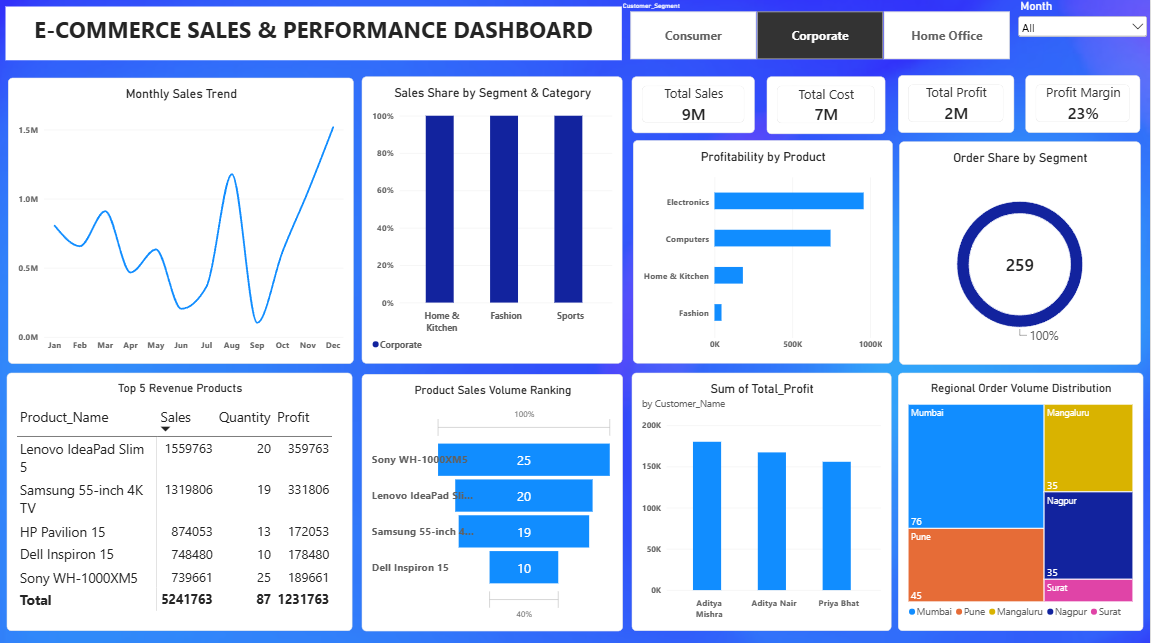

The page's visual inventory and layout, read from the dashboard file:
{"tool":"powerbi","page":{"name":"Page 1","canvas":[1920,1080],"ordinal":0},"visuals":[{"type":"cardVisual","fields":{"Data":["Sum(Orders.Total_Sales)"]},"box":[1056.5,128.3,205,94],"z":0},{"type":"cardVisual","fields":{"Data":["Avg(Orders.Profit_Margin)"]},"box":[1713,126.1,191.3,95.7],"z":1000},{"type":"cardVisual","fields":{"Data":["Sum(Orders.Total_Cost)"]},"box":[1280.4,128.3,197.8,95.7],"z":2000},{"type":"cardVisual","fields":{"Data":["Sum(Orders.Total_Profit)"]},"box":[1500,126.1,193.5,95.7],"z":3000},{"type":"lineChart","title":"Monthly Sales Trend","fields":{"Category":["Date_Table.Month"],"Y":["Sum(Orders.Total_Sales)"]},"box":[17.4,130.4,576.1,477],"z":4000},{"type":"clusteredBarChart","title":"Profitability by Product","fields":{"Category":["Products.Category"],"Y":["Sum(Orders.Total_Profit)"]},"box":[1058.7,234.8,432.6,371.7],"z":5000},{"type":"donutChart","title":"Order Share by Segment","fields":{"Category":["Customers.Customer_Segment"],"Y":["CountNonNull(Orders.Order_ID)"]},"box":[1502.2,237,402.2,371.7],"z":6000},{"type":"clusteredColumnChart","fields":{"Category":["Customers.Customer_Name"],"Y":["Sum(Orders.Total_Profit)"]},"box":[1056.5,623.9,432.6,430.4],"z":7000},{"type":"slicer","fields":{"Values":["Date_Table.Month"]},"box":[1696.1,12.3,223.9,97.8],"z":8000},{"type":"pivotTable","title":"Top 5 Revenue Products","fields":{"Rows":["Products.Product_Name"],"Values":["Sum(Orders.Total_Sales)","Orders.Total Quantity","Sum(Orders.Total_Profit)"]},"box":[15.2,623.9,576.1,430.4],"z":9000},{"type":"hundredPercentStackedColumnChart","title":"Sales Share by Segment & Category","fields":{"Category":["Products.Category"],"Series":["Customers.Customer_Segment"],"Y":["Sum(Orders.Total_Sales)"]},"box":[606.5,128.3,434.8,478.3],"z":10000},{"type":"funnel","title":"Product Sales Volume Ranking","fields":{"Category":["Products.Product_Name"],"Y":["Orders.Total Quantity"]},"box":[606.7,624.4,435.6,428.9],"z":11000},{"type":"treemap","title":"Regional Order Volume Distribution","fields":{"Group":["Customers.City"],"Values":["Sum(Orders.Quantity)"]},"box":[1500,623.9,408.7,430.4],"z":12000},{"type":"slicer","fields":{"Values":["Customers.Customer_Segment"]},"box":[1033.3,4.2,671.7,97.8],"z":13000},{"type":"textbox","box":[12.5,12.5,1027.1,89.6],"z":16000}]}

Visuals, with their boxes in screenshot pixels (x1, y1, x2, y2), scaled from the page's 1920x1080 canvas onto the 1151x643 screenshot:
cardVisual - Sum(Orders.Total_Sales): box=[633, 76, 756, 132]
cardVisual - Avg(Orders.Profit_Margin): box=[1027, 75, 1142, 132]
cardVisual - Sum(Orders.Total_Cost): box=[768, 76, 886, 133]
cardVisual - Sum(Orders.Total_Profit): box=[899, 75, 1015, 132]
"Monthly Sales Trend" lineChart: box=[10, 78, 356, 362]
"Profitability by Product" clusteredBarChart: box=[635, 140, 894, 361]
"Order Share by Segment" donutChart: box=[901, 141, 1142, 362]
clusteredColumnChart - Customers.Customer_Name x Sum(Orders.Total_Profit): box=[633, 371, 893, 628]
slicer - Date_Table.Month: box=[1017, 7, 1150, 66]
"Top 5 Revenue Products" pivotTable: box=[9, 371, 354, 628]
"Sales Share by Segment & Category" hundredPercentStackedColumnChart: box=[364, 76, 624, 361]
"Product Sales Volume Ranking" funnel: box=[364, 372, 625, 627]
"Regional Order Volume Distribution" treemap: box=[899, 371, 1144, 628]
slicer - Customers.Customer_Segment: box=[619, 3, 1022, 61]
textbox: box=[7, 7, 623, 61]
